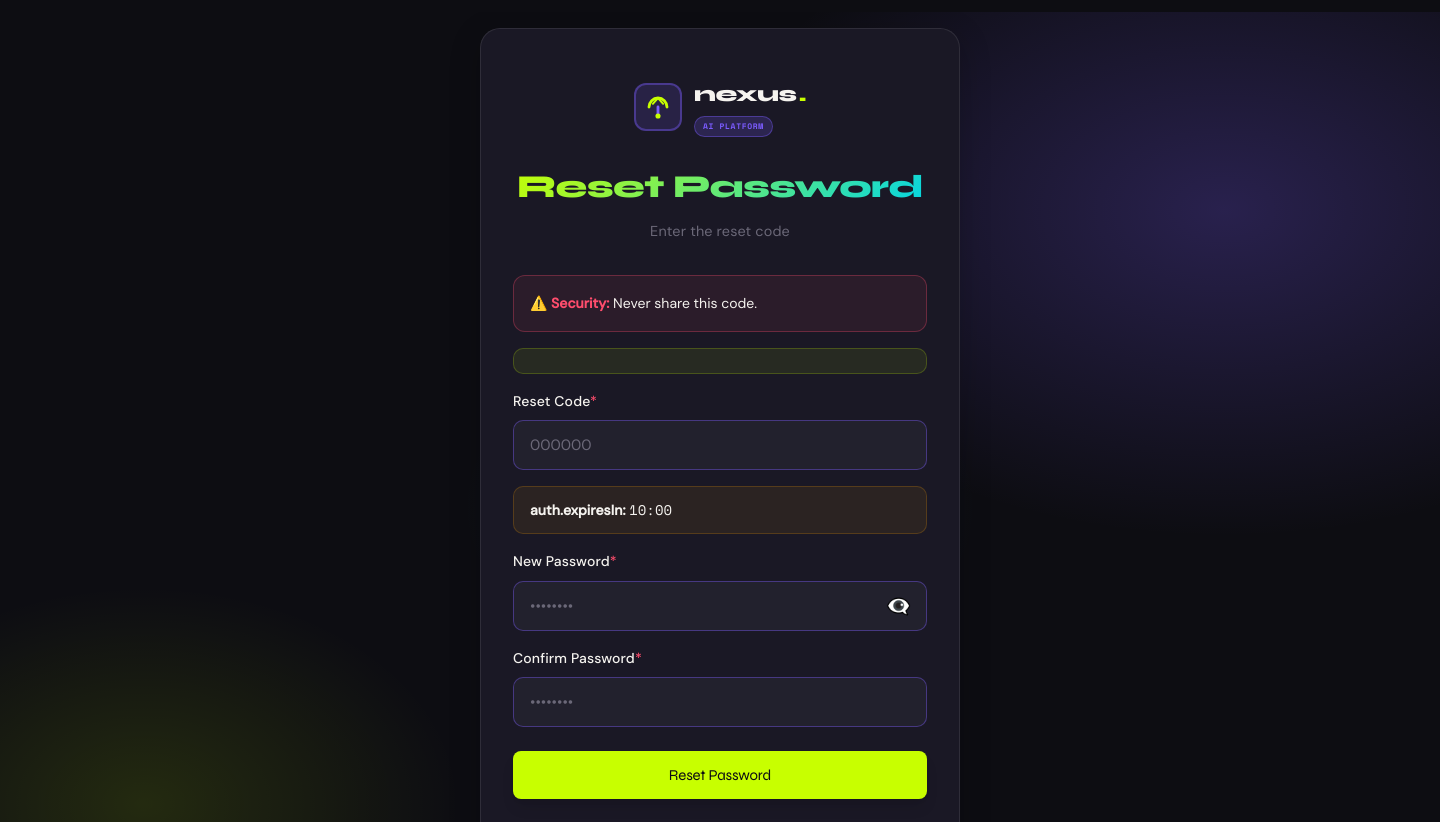
ResetPasswordPage › displays error for weak passwords
Type "123456" into the field labelled "Reset Code*" at coordinates (720, 445), box [513,420,927,470]
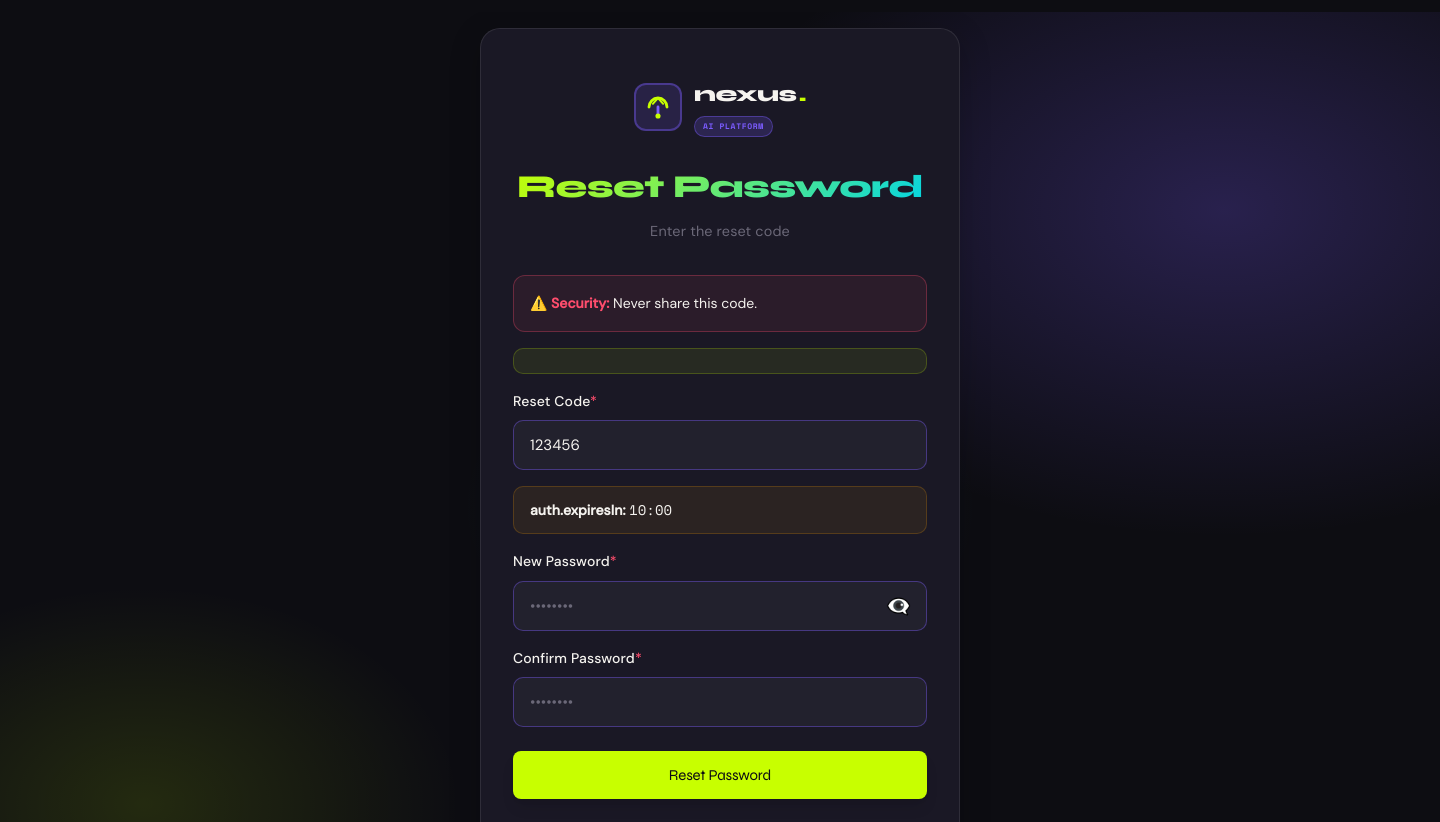
Type "weak" into the password field labelled "New Password*" at coordinates (720, 606), box [513,581,927,631]
(page scrolled)
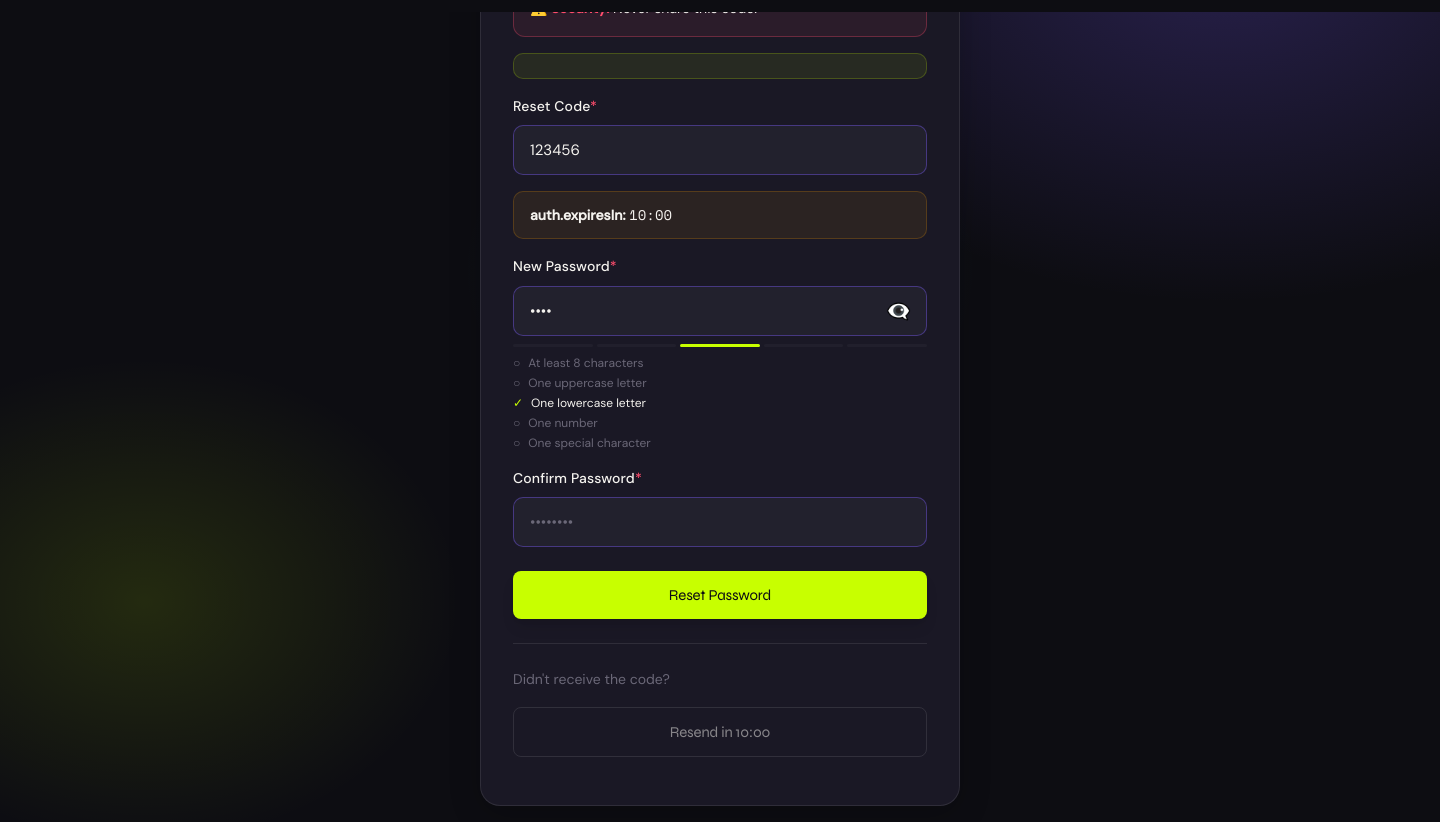
Type "weak" into the password field labelled "Confirm Password*" at coordinates (720, 522), box [513,497,927,547]
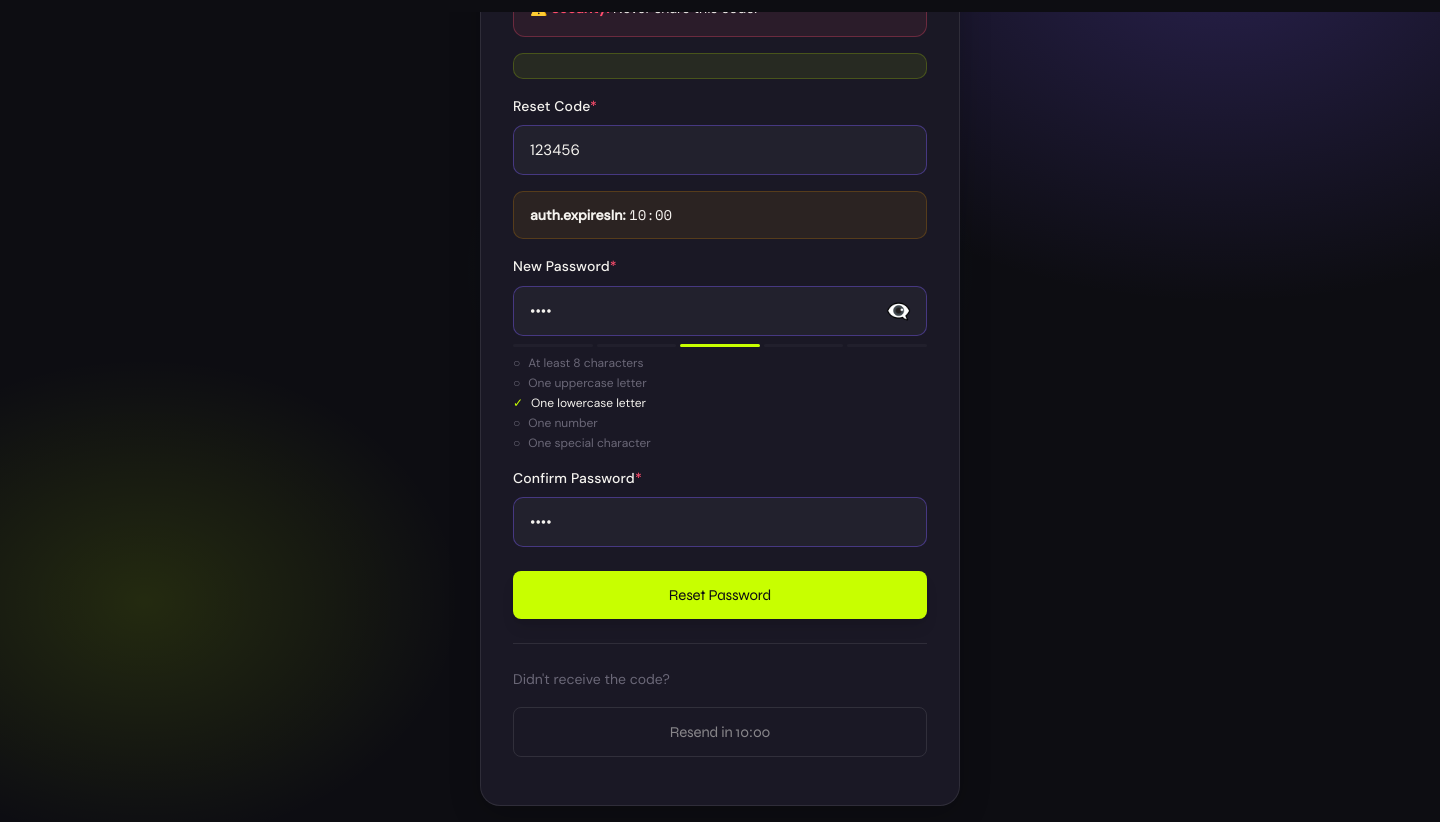
Click the button "Reset Password" at coordinates (720, 595), box [513,571,927,619]
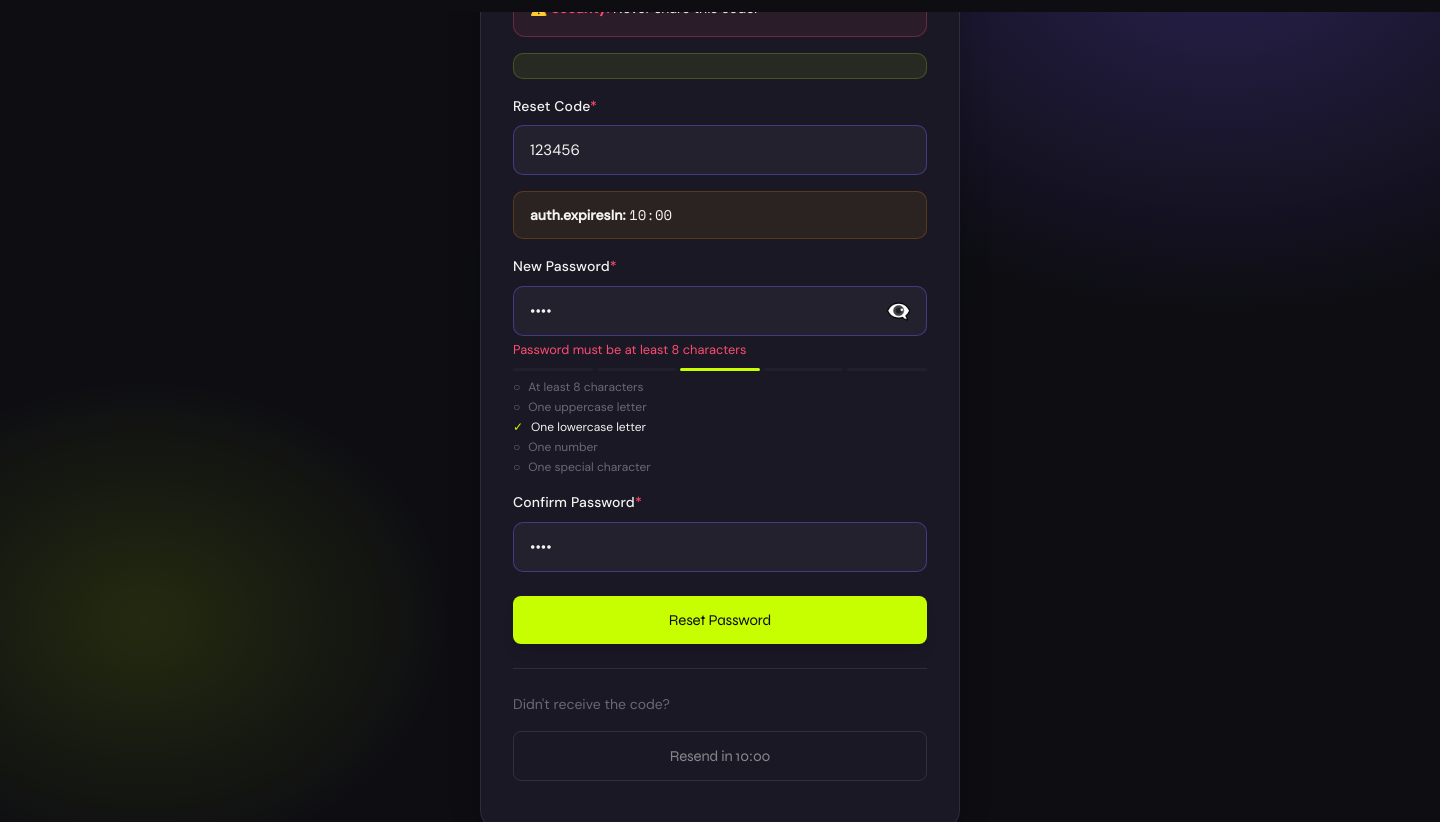
Result: the text "Password must be at least 8 characters" is shown at [513,341,746,358]
